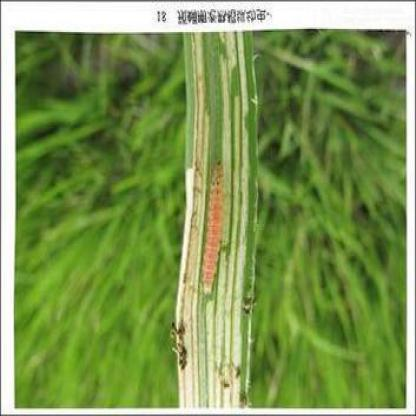leaf-folder: (198, 148, 229, 309)
